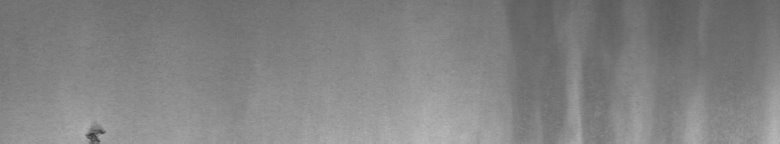fi: (80, 120, 108, 136)
